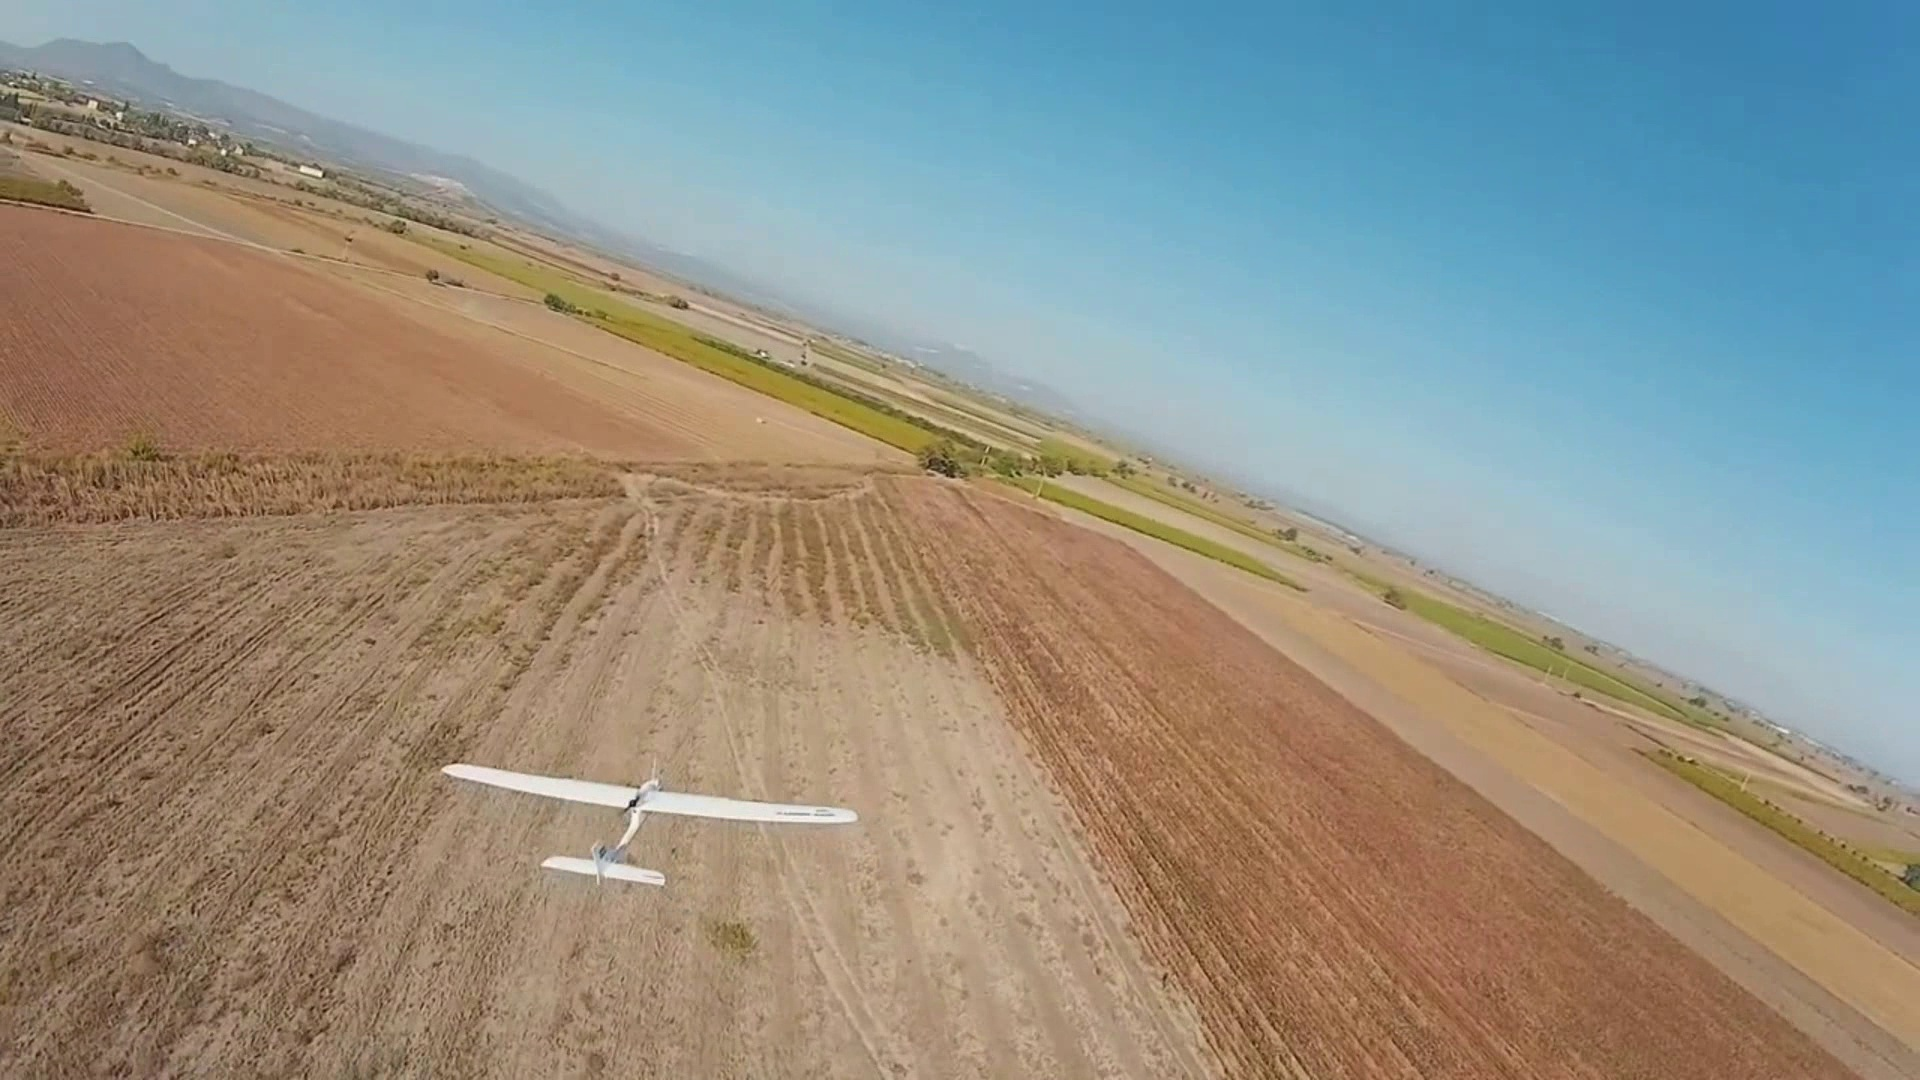airplane: (439, 763, 860, 888)
